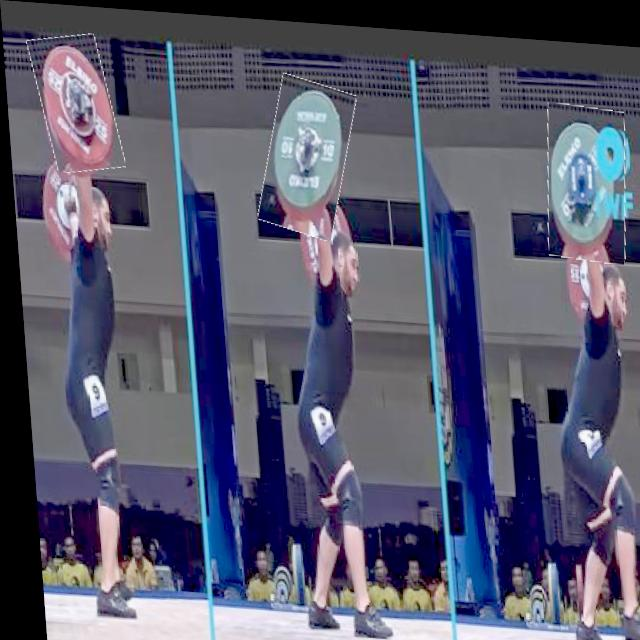barbell: (256, 72, 356, 236), (540, 95, 630, 256), (31, 33, 119, 174)
